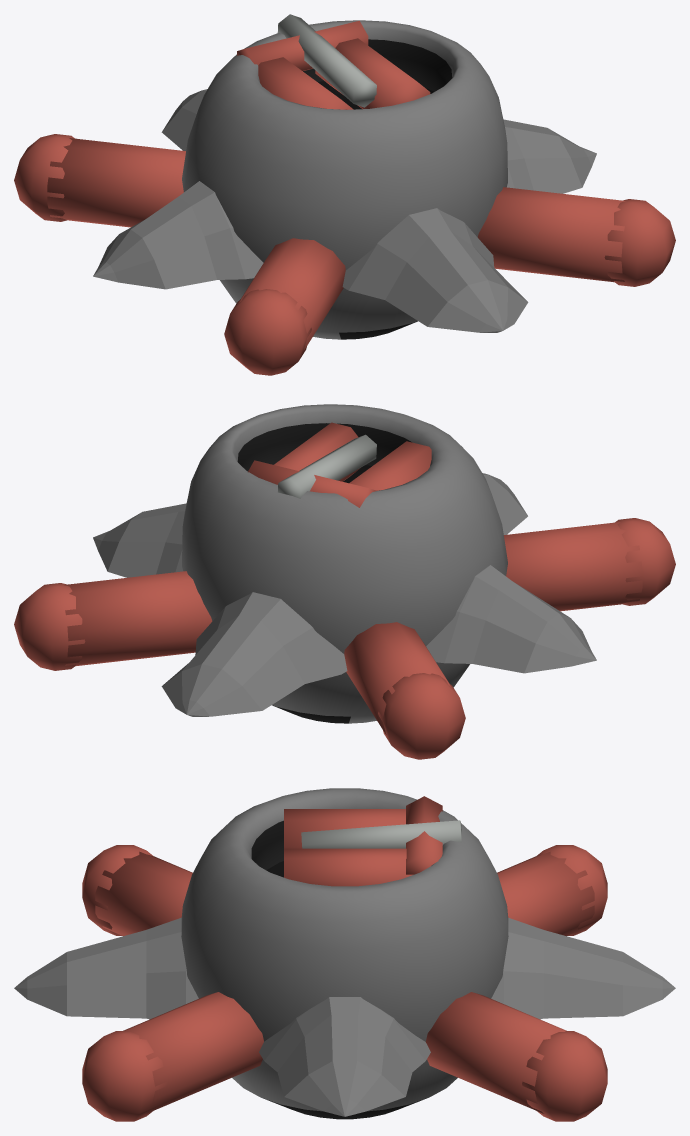
The model's file is newsh3-246.glb.
3 renders of one model, top to bottom at view 1: azimuth 30°, elevation 25°; view 2: azimuth 150°, elevation 25°; view 3: azimuth 270°, elevation 25°, orthographic. The views are drawn at different scales.
Parts seen in each view (by area): view 1: newsh3-246; view 2: newsh3-246; view 3: newsh3-246.
Boxes of the visible parts, x1,y1,x2,y2 form: newsh3-246: [14, 14, 675, 375]; newsh3-246: [14, 404, 675, 759]; newsh3-246: [14, 788, 675, 1121].
Bounding box in the file's own units: 1.92 × 0.9582 × 2.08.
